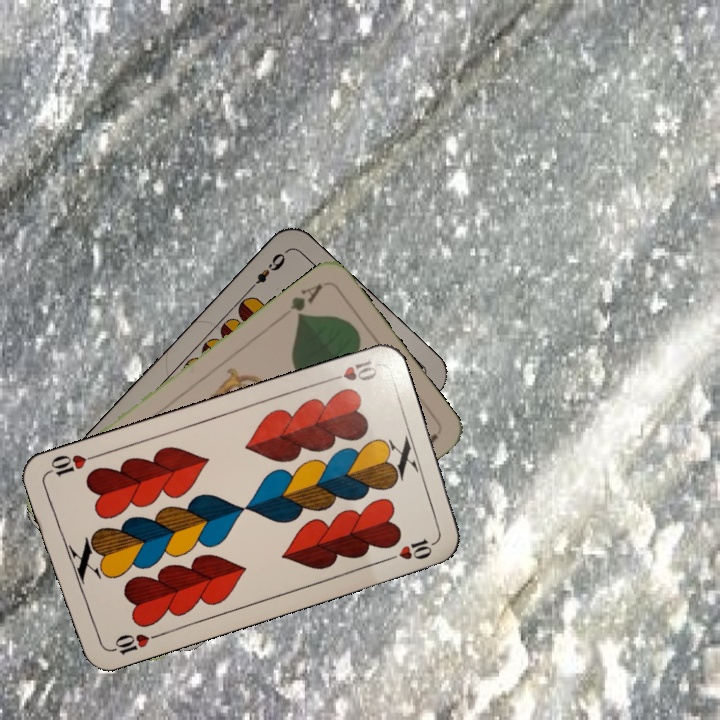E9: (244, 249, 289, 294)
GA: (285, 279, 326, 321)
H10: (322, 354, 381, 385), (104, 629, 162, 657)
